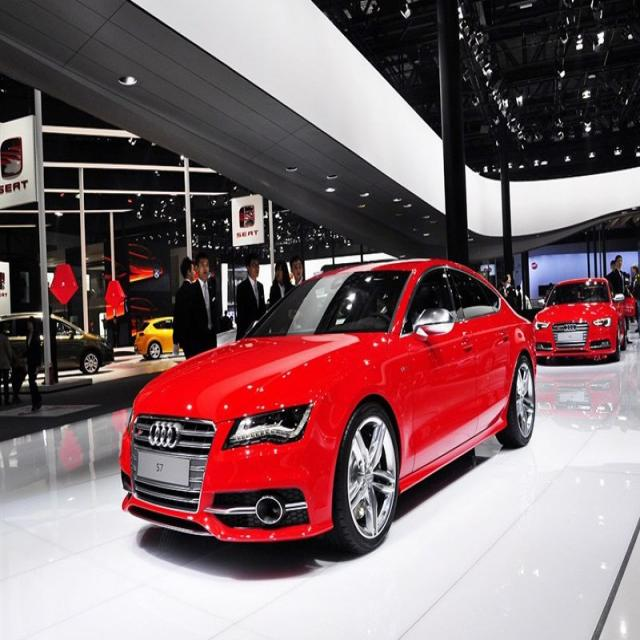front_bumper: (118, 423, 333, 544)
front_glass: (243, 268, 414, 338)
front_left_side_door: (396, 261, 482, 475)
front_left_side_light: (221, 401, 314, 452)
front_left_side_mirror: (412, 306, 455, 337)
wheel: (332, 403, 398, 552), (494, 354, 534, 445)
